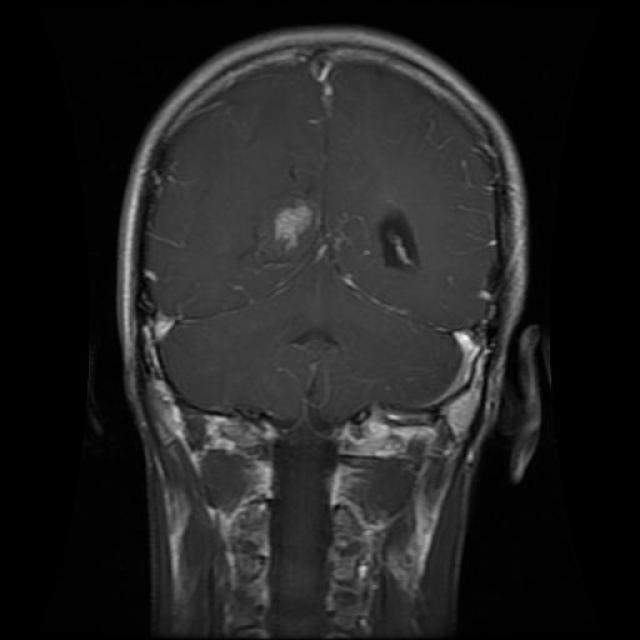glioma: (264, 190, 428, 295)
